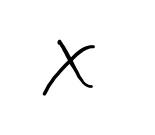mult: (41, 38, 96, 97)
